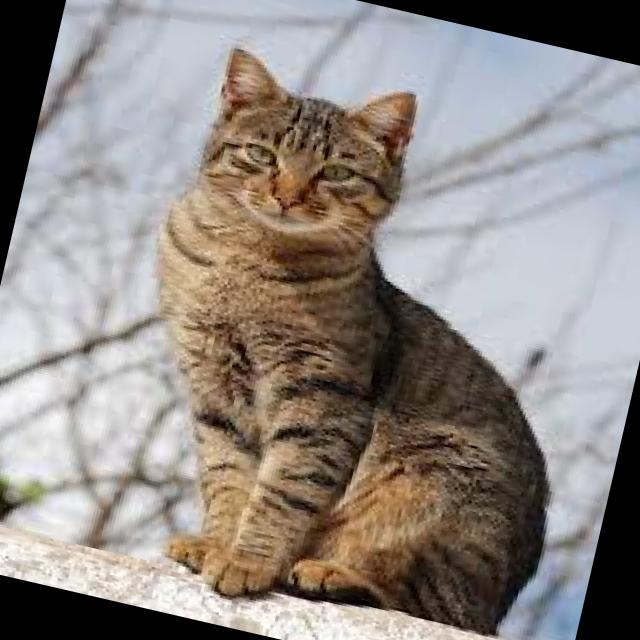CAT: (78, 35, 637, 640)
